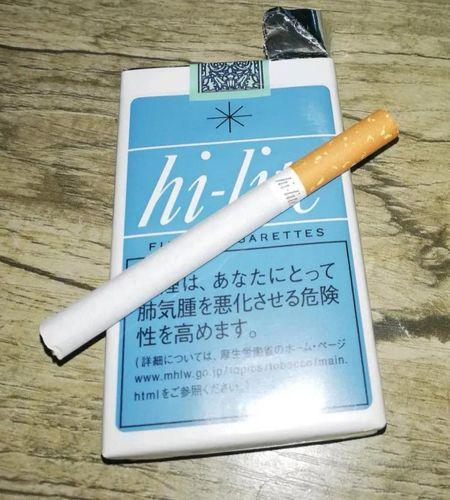smoke: (39, 109, 400, 360)
